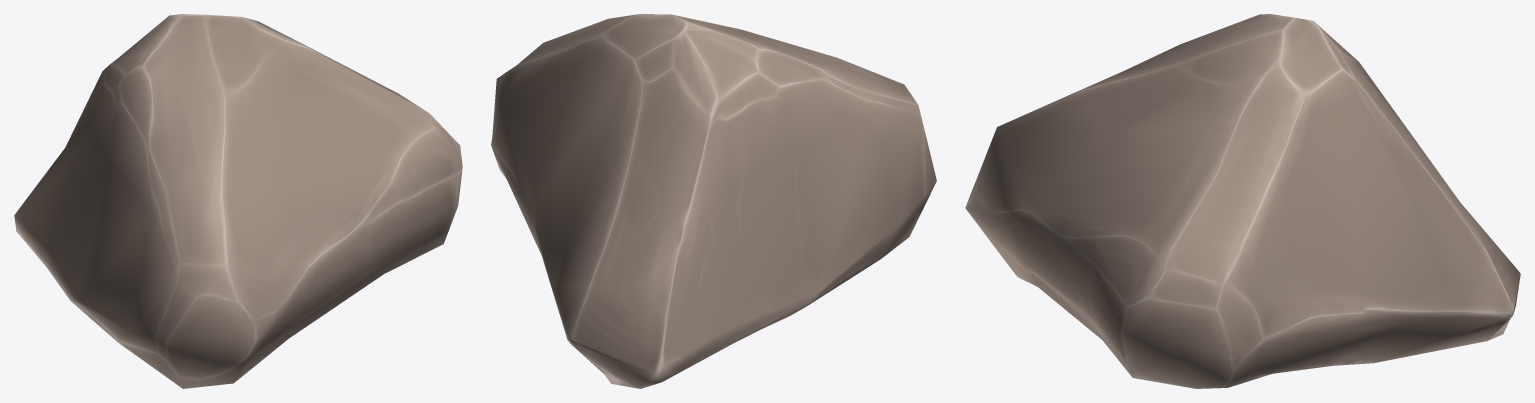
The model's file is Stone_3_Variation_2.fbx.
3 views of the same model, side by side, from view 1: azimuth 30°, elevation 25°; view 2: azimuth 150°, elevation 25°; view 3: azimuth 270°, elevation 25° (orthographic). The views are drawn at different scales.
Parts seen in each view (by area): view 1: Stone_3_Variation_2; view 2: Stone_3_Variation_2; view 3: Stone_3_Variation_2.
Part boxes in pixels (<box>): Stone_3_Variation_2: <box>14,14,462,388</box>; Stone_3_Variation_2: <box>491,14,936,388</box>; Stone_3_Variation_2: <box>965,14,1520,388</box>.
Bounding box in the file's own units: 121 × 94.6 × 146.
